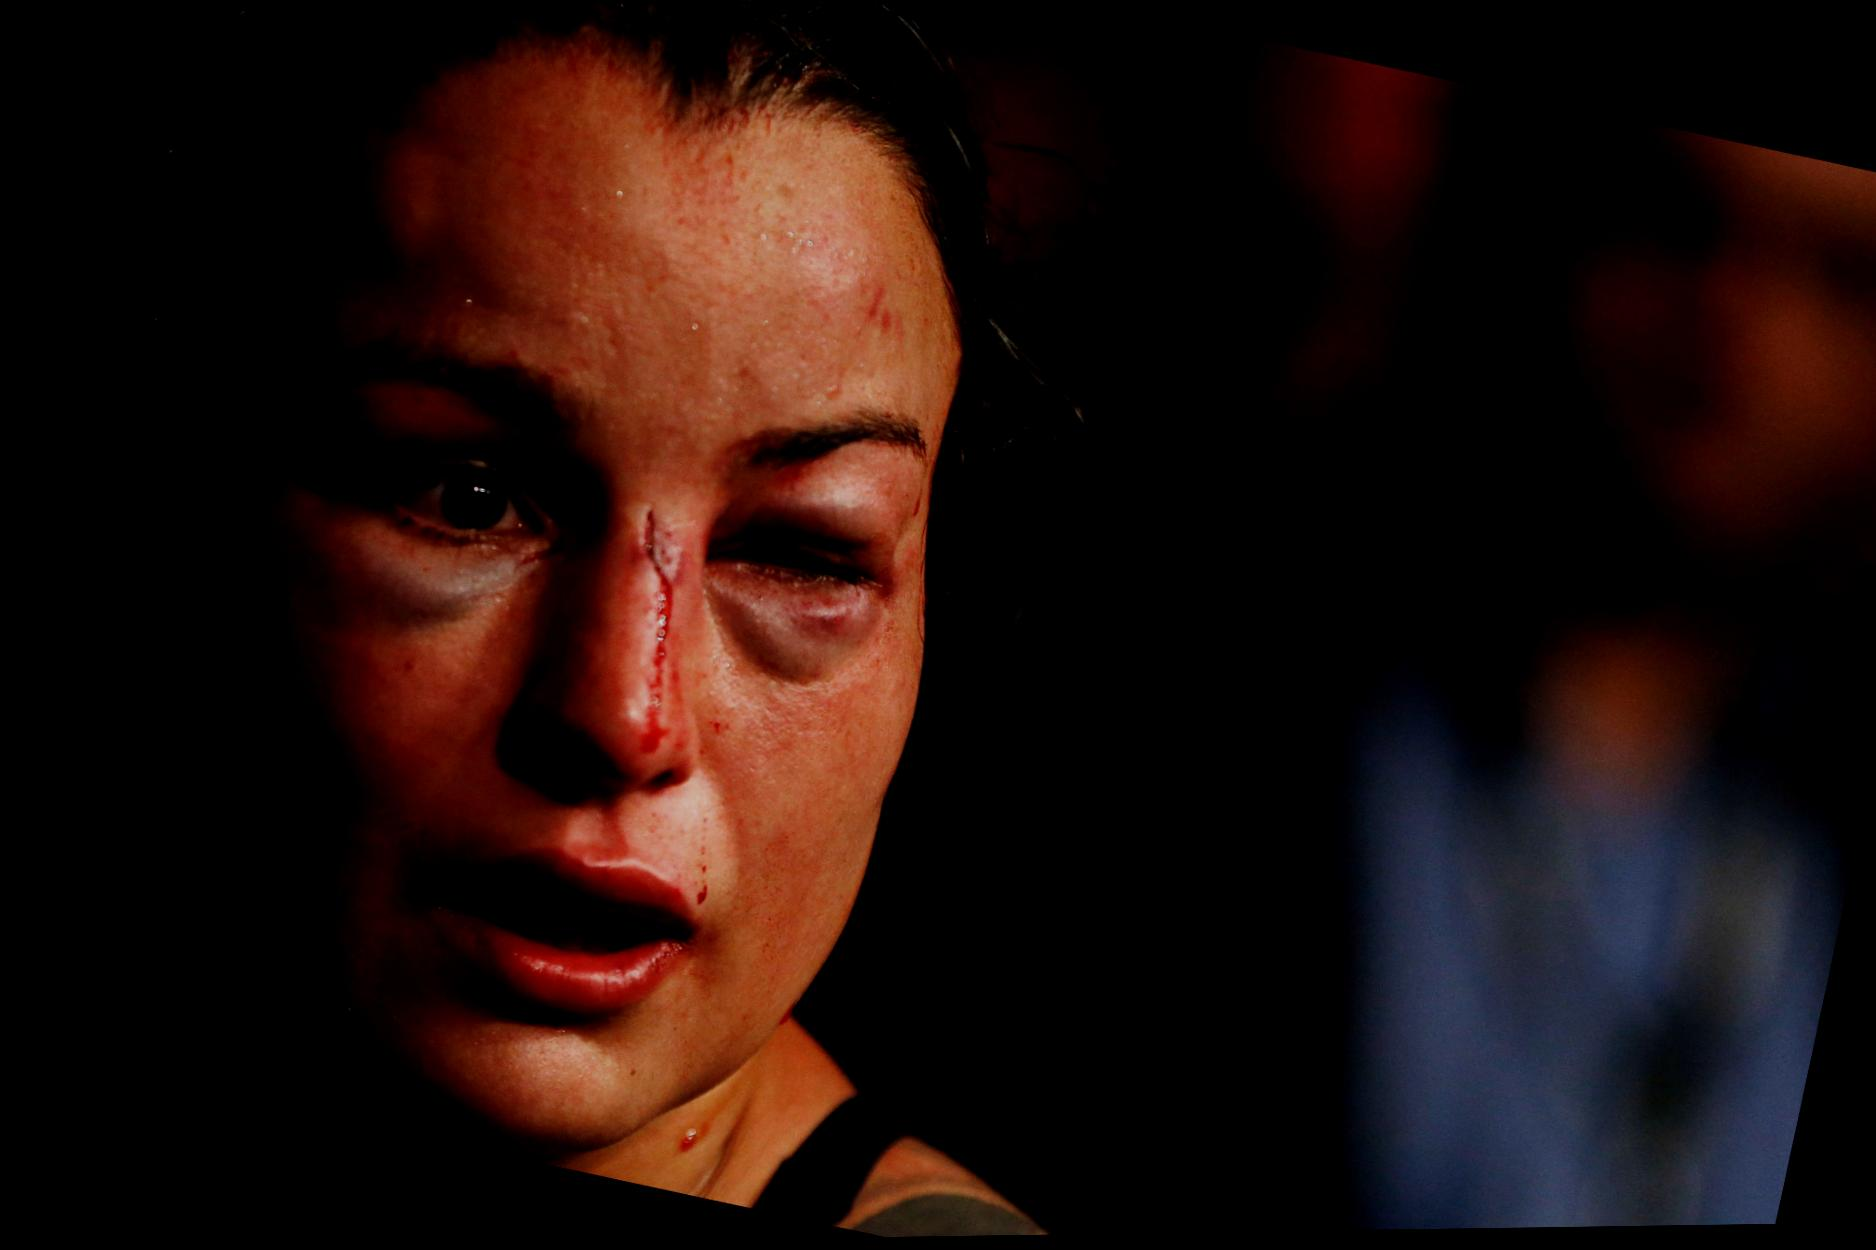Fire: (635, 509, 685, 755)
